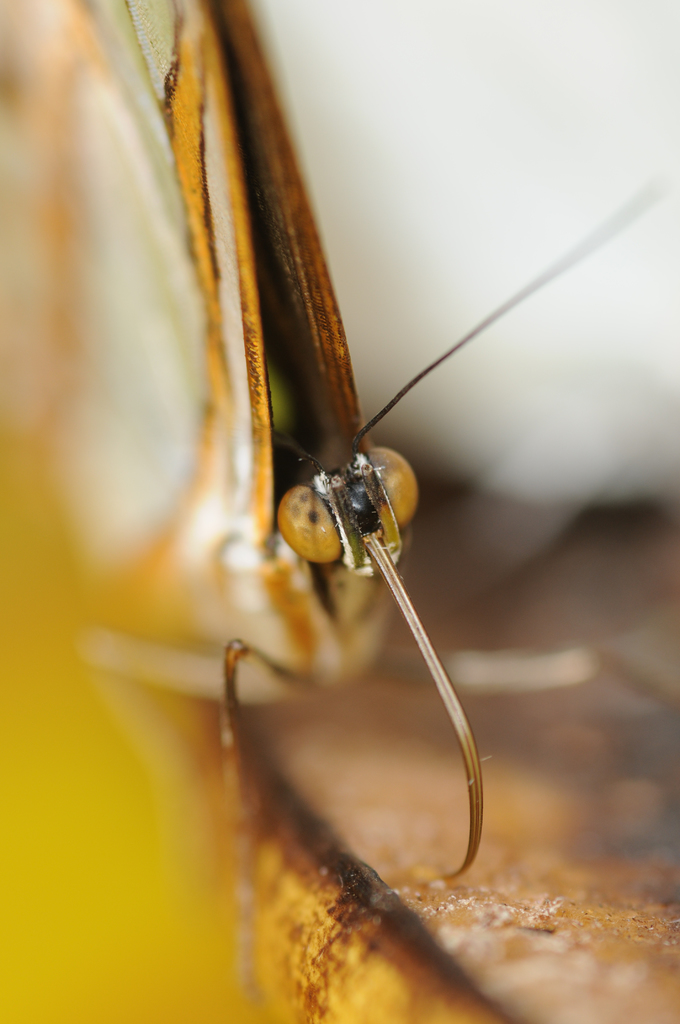Butterfly: (102, 1, 445, 717)
